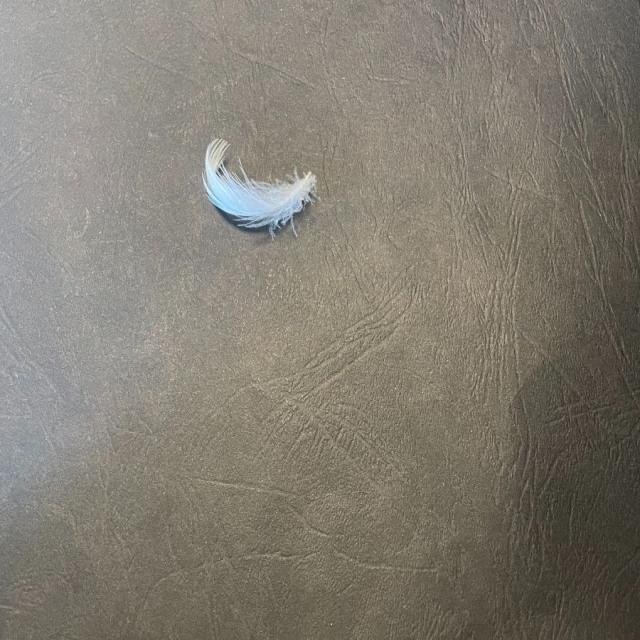feather: (202, 134, 320, 240)
